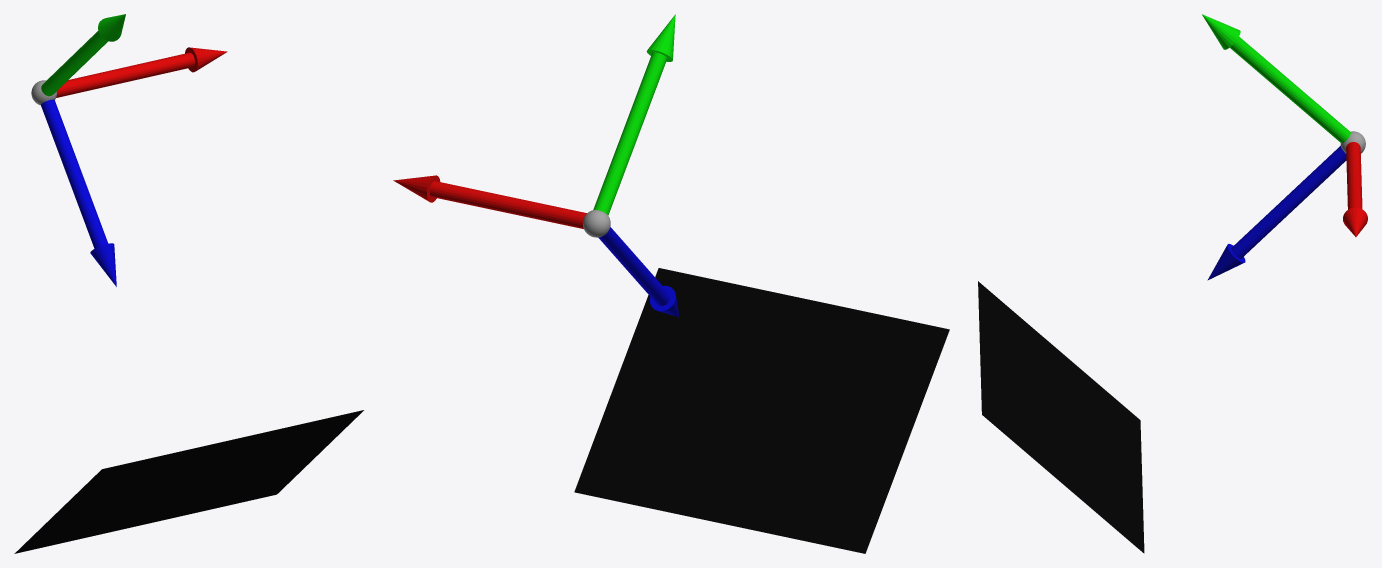
The picture shows the model from 3 angles, left to right: view 1: azimuth 30°, elevation 25°; view 2: azimuth 150°, elevation 25°; view 3: azimuth 270°, elevation 25°; orthographic projection. The views are drawn at different scales.
Bounding box in the file's own units: 0.2181 × 0.3153 × 0.2315.
